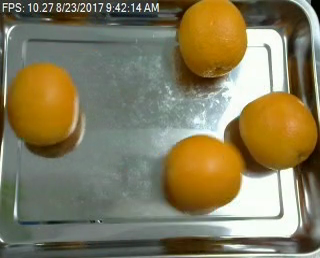Orange: (239, 90, 319, 171), (6, 62, 80, 146), (165, 133, 243, 211), (176, 1, 247, 77)
